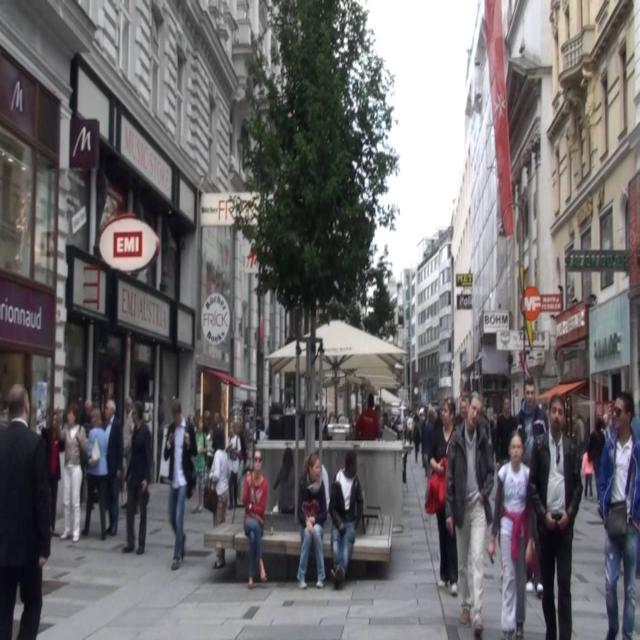body: (572, 413, 640, 640), (527, 393, 583, 639), (0, 381, 50, 639), (444, 390, 494, 639), (486, 429, 536, 639), (597, 391, 639, 639), (162, 396, 199, 570), (427, 396, 459, 596), (122, 399, 156, 556), (328, 448, 363, 592), (55, 401, 89, 542), (296, 451, 328, 591), (80, 406, 110, 542), (202, 426, 230, 570), (241, 447, 268, 590), (300, 450, 328, 576), (40, 410, 66, 541), (513, 377, 549, 468), (102, 398, 123, 536), (384, 409, 426, 462), (188, 409, 224, 465), (190, 416, 208, 515), (78, 398, 94, 509), (495, 395, 519, 463), (631, 399, 640, 573), (273, 445, 295, 514), (224, 422, 241, 511), (354, 392, 382, 441), (122, 396, 136, 482), (424, 406, 436, 504), (588, 420, 606, 481), (233, 422, 251, 471), (494, 529, 507, 593), (580, 442, 594, 499), (599, 393, 615, 433), (484, 391, 494, 445), (368, 404, 382, 441), (433, 396, 445, 434), (456, 398, 468, 424), (350, 402, 360, 428)
